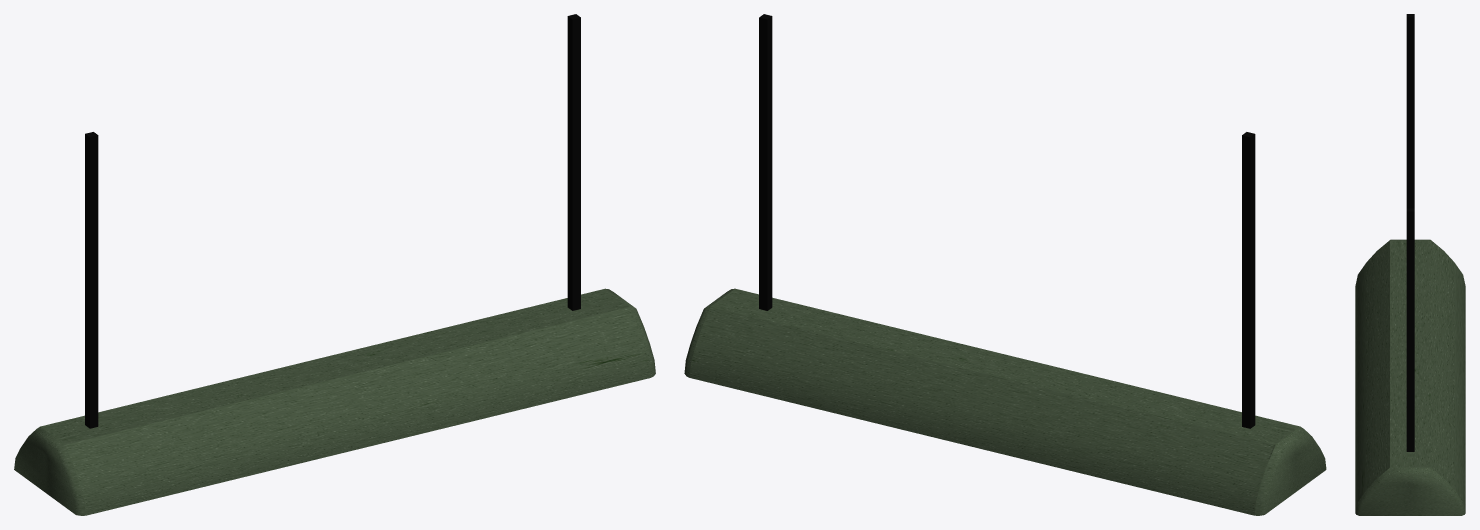
The model's file is GreenLamp.fbx.
3 views of the same model, side by side, from view 1: azimuth 30°, elevation 25°; view 2: azimuth 150°, elevation 25°; view 3: azimuth 270°, elevation 25° (orthographic). The views are drawn at different scales.
Parts seen in each view (by area): view 1: Cube.025; view 2: Cube.025; view 3: Cube.025.
Part boxes in pixels (box(x1,y1,x2,y2)): Cube.025: box(14, 14, 655, 515); Cube.025: box(684, 14, 1326, 515); Cube.025: box(1355, 14, 1465, 515).
Bounding box in the file's own units: 361 × 206 × 72.01.
